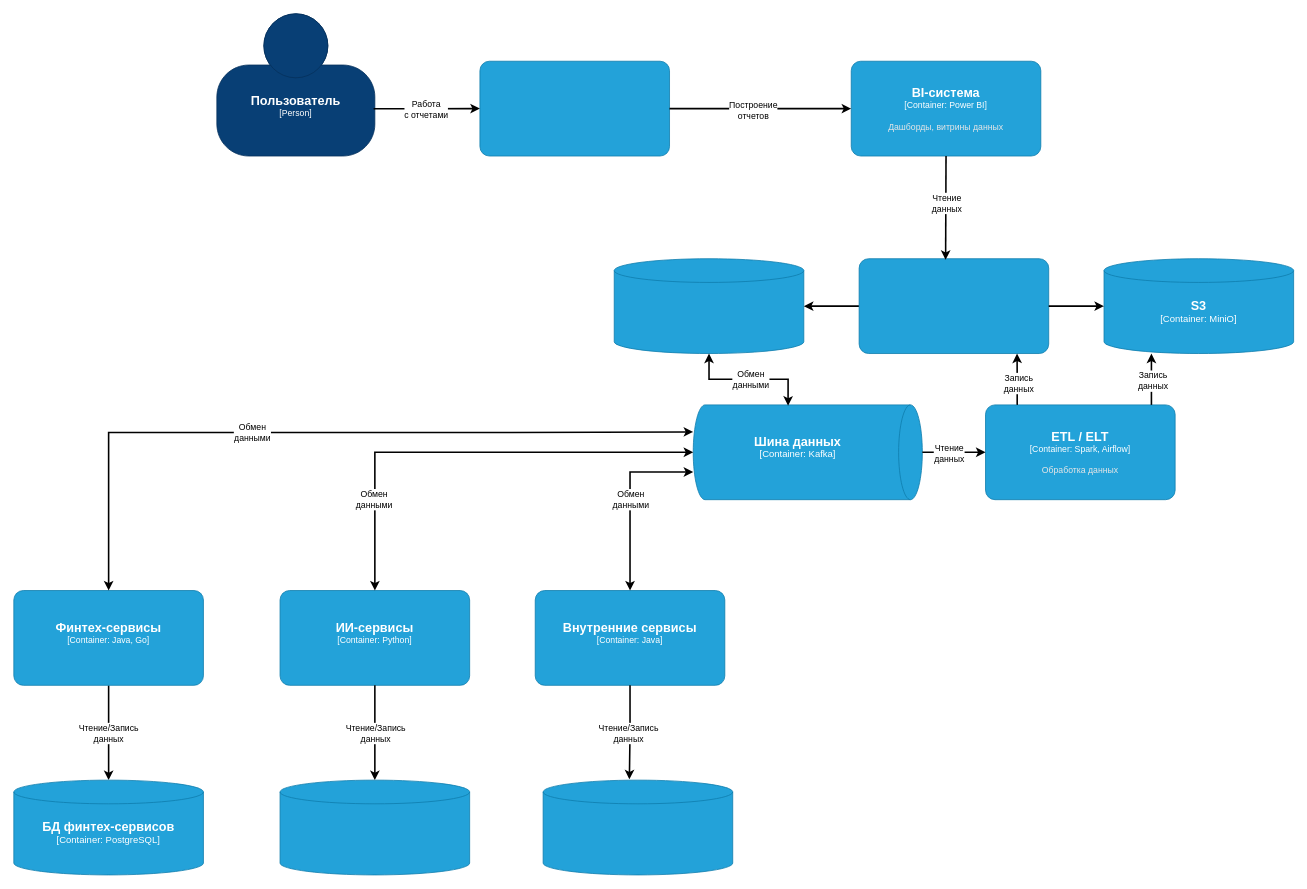
Image size: 1307x889. Some labels were removed from this diagram. The centre of each missing label's shape, as x and y in pixels:
Data Lakehouse [Container: Iceberg, Nessie, Dremio] Хранилище данных: point (953, 306)
Legacy DWH [Container: MS SQL Server]: point (708, 306)
БД внутренних сервисов [Container: PostgreSQL]: point (637, 827)
БД ИИ-сервисов [Container: PostgreSQL]: point (374, 827)
Портал самообслуживания [Container: React, Spring Boot]: point (574, 108)
